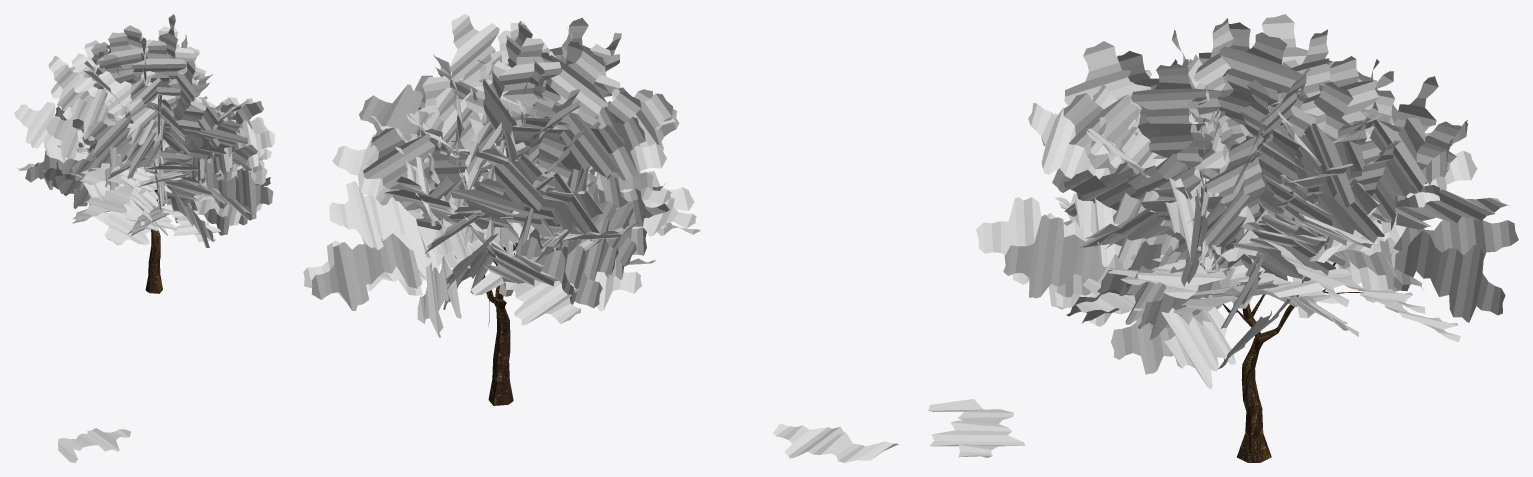
Rendered from cherry_blossom.fbx.
3 views of the same model, side by side, from view 1: azimuth 30°, elevation 25°; view 2: azimuth 150°, elevation 25°; view 3: azimuth 270°, elevation 25° (orthographic). The views are drawn at different scales.
Visible parts, largest first — view 1: Tree.001|Tree Branch|Dupli|117, Tree.001|Tree Branch|Dupli|170, Tree.001|Tree Branch|Dupli|100, Tree.001|Tree Branch|Dupli|122, Tree Branch, Tree.001|Tree Branch|Dupli|34, Tree.001|Tree Branch|Dupli|52, Tree.001|Tree Branch|Dupli|113, Tree.001|Tree Branch|Dupli|150, Tree.001|Tree Branch|Dupli|96, Tree.001|Tree Branch|Dupli|14, Tree.001|Tree Branch|Dupli|109 (+44 smaller); view 2: Tree.001|Tree Branch|Dupli|157, Tree.001|Tree Branch|Dupli|155, Tree.001|Tree Branch|Dupli|146, Tree Branch, Tree.001|Tree Branch|Dupli|147, Tree.001|Tree Branch|Dupli|34, Tree.001|Tree Branch|Dupli|54, Tree.001|Tree Branch|Dupli|35, Tree.001|Tree Branch|Dupli|153, Tree.001|Tree Branch|Dupli|38, Tree.001|Tree Branch|Dupli|150, Tree.001|Tree Branch|Dupli|40 (+37 smaller); view 3: Tree.001|Tree Branch|Dupli|157, Tree.001|Tree Branch|Dupli|117, Tree.001|Tree Branch|Dupli|107, Tree.001|Tree Branch|Dupli|54, Tree.001|Tree Branch|Dupli|146, Tree Branch, Tree.001|Tree Branch|Dupli|160, Tree.001|Tree Branch|Dupli|106, Tree.001|Tree Branch|Dupli|40, Tree.001, Tree.001|Tree Branch|Dupli|120, Tree.001|Tree Branch|Dupli|137 (+63 smaller).
Part boxes in pixels (x1,y1,x2,y2): Tree.001|Tree Branch|Dupli|117: (204, 162, 273, 220); Tree.001|Tree Branch|Dupli|170: (14, 102, 61, 148); Tree.001|Tree Branch|Dupli|100: (88, 117, 132, 169); Tree.001|Tree Branch|Dupli|122: (176, 119, 248, 159); Tree Branch: (58, 428, 130, 462); Tree.001|Tree Branch|Dupli|34: (70, 88, 130, 155); Tree.001|Tree Branch|Dupli|52: (131, 40, 186, 79); Tree.001|Tree Branch|Dupli|113: (103, 195, 164, 245); Tree.001|Tree Branch|Dupli|150: (53, 65, 95, 110); Tree.001|Tree Branch|Dupli|96: (83, 181, 145, 216); Tree.001|Tree Branch|Dupli|14: (46, 115, 88, 159); Tree.001|Tree Branch|Dupli|109: (159, 106, 217, 159); Tree.001|Tree Branch|Dupli|157: (311, 233, 421, 310); Tree.001|Tree Branch|Dupli|155: (329, 181, 430, 257); Tree.001|Tree Branch|Dupli|146: (363, 127, 459, 210); Tree Branch: (773, 423, 898, 462); Tree.001|Tree Branch|Dupli|147: (471, 272, 580, 325); Tree.001|Tree Branch|Dupli|34: (551, 112, 624, 188); Tree.001|Tree Branch|Dupli|54: (449, 14, 499, 86); Tree.001|Tree Branch|Dupli|35: (550, 49, 607, 128); Tree.001|Tree Branch|Dupli|153: (499, 236, 602, 308); Tree.001|Tree Branch|Dupli|38: (498, 37, 562, 126); Tree.001|Tree Branch|Dupli|150: (474, 148, 547, 243); Tree.001|Tree Branch|Dupli|40: (359, 84, 428, 147); Tree.001|Tree Branch|Dupli|157: (1393, 230, 1505, 322); Tree.001|Tree Branch|Dupli|117: (1003, 214, 1106, 298); Tree.001|Tree Branch|Dupli|107: (1131, 64, 1221, 169); Tree.001|Tree Branch|Dupli|54: (1218, 32, 1306, 137); Tree.001|Tree Branch|Dupli|146: (1370, 117, 1426, 220); Tree Branch: (928, 399, 1025, 457); Tree.001|Tree Branch|Dupli|160: (1161, 306, 1235, 389); Tree.001|Tree Branch|Dupli|106: (1063, 93, 1167, 173); Tree.001|Tree Branch|Dupli|40: (1262, 123, 1364, 207); Tree.001: (1223, 263, 1363, 462); Tree.001|Tree Branch|Dupli|120: (976, 197, 1092, 284); Tree.001|Tree Branch|Dupli|137: (1389, 216, 1518, 291).
Size of the model in its own units: 3748 by 4195 by 4146.
